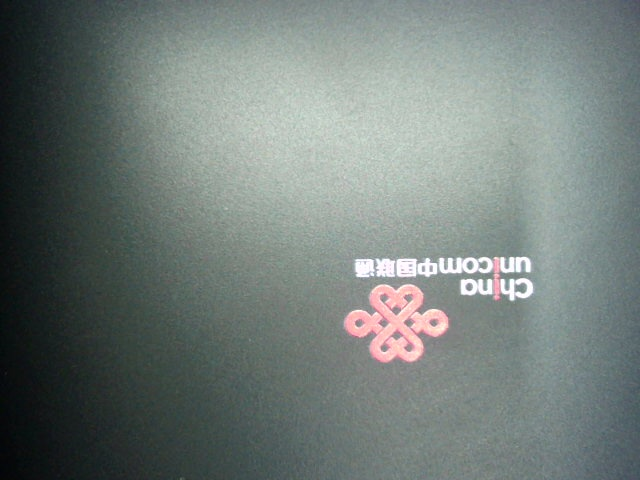AC_ChinaUnicom: (334, 255, 538, 365)
